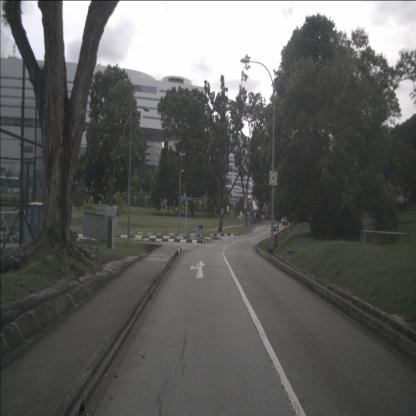vehicle-car: (270, 221, 279, 232), (282, 216, 288, 225)
